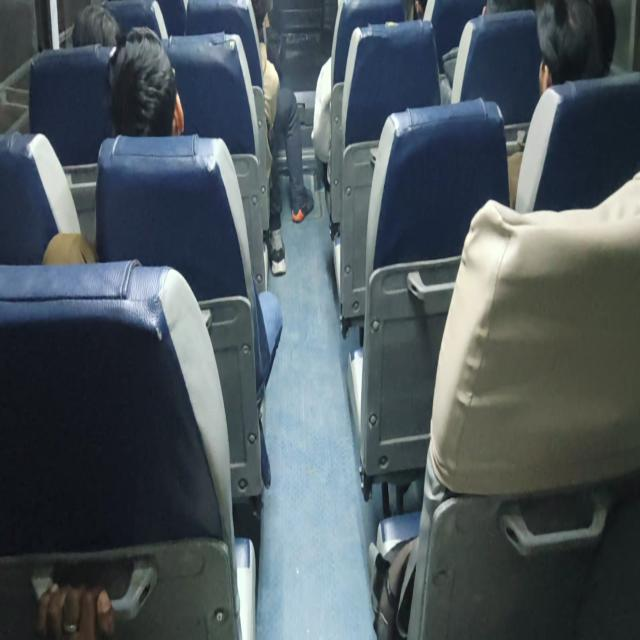person: (535, 0, 617, 106), (116, 42, 190, 136), (68, 0, 120, 59)
